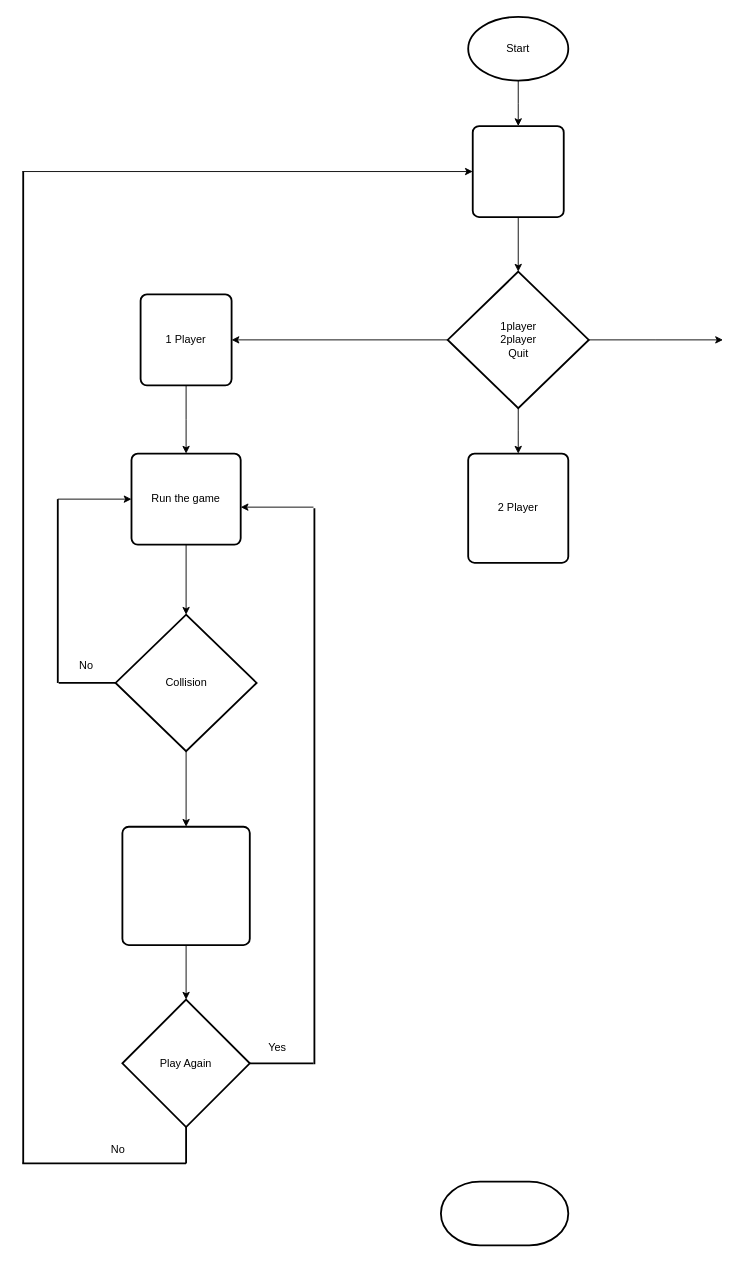
Image size: 746x1261. Some labels were removed from this diagram. The centre of each missing label's shape, as x and y in pixels:
"Game over Display Score (Speaker)" belongs at (x=185, y=885).
"Game Screen" belongs at (x=517, y=171).
"Quit" belongs at (x=504, y=1213).
